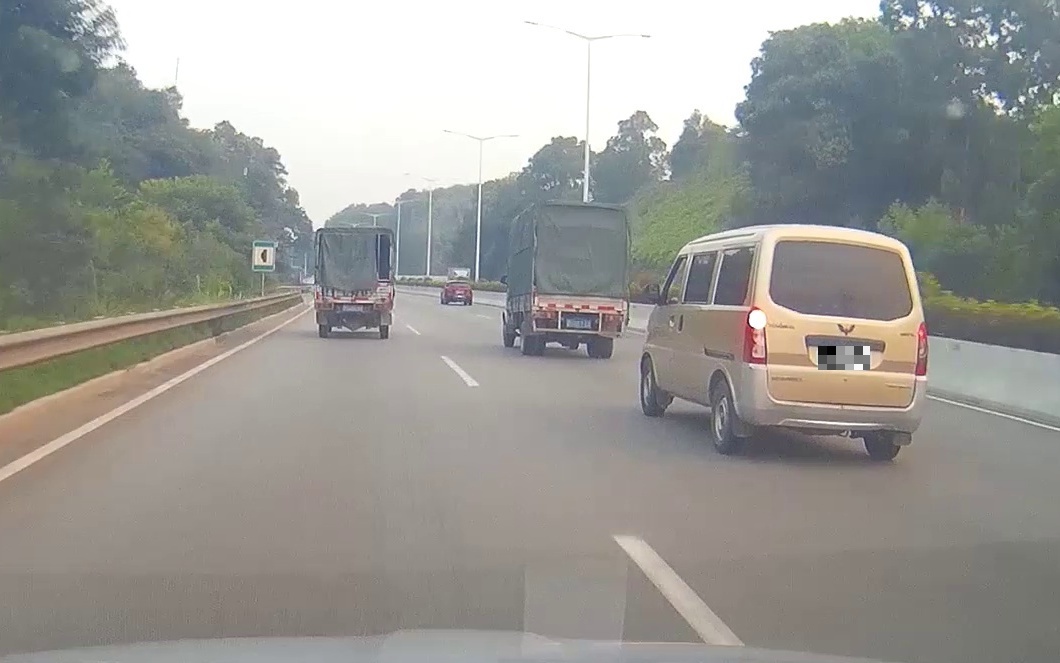L_light: (742, 306, 767, 365), (915, 321, 929, 376), (535, 310, 556, 319), (315, 302, 334, 310)
R_light: (604, 314, 623, 322), (373, 304, 392, 311), (571, 309, 586, 312)
T_light: (829, 243, 862, 249), (348, 301, 359, 303)
day-left: (739, 224, 929, 460)
day-no: (532, 199, 632, 359), (314, 227, 394, 339)
plate_1: (818, 346, 870, 370)
